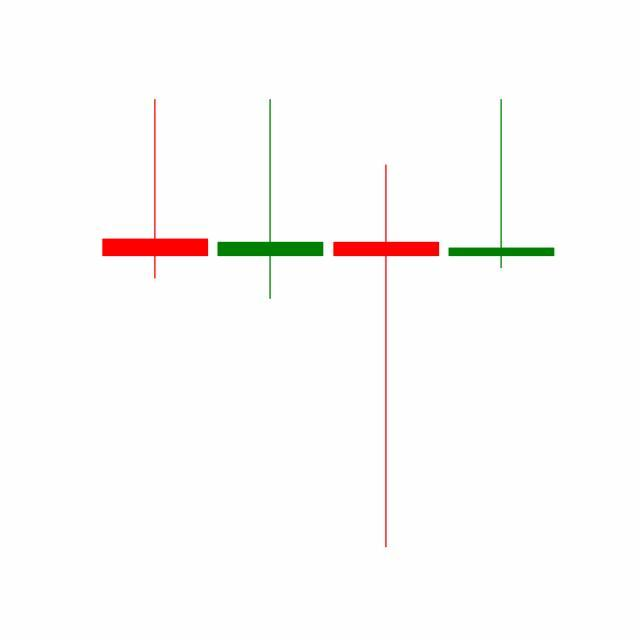Spinning Top: (444, 98, 560, 272)
